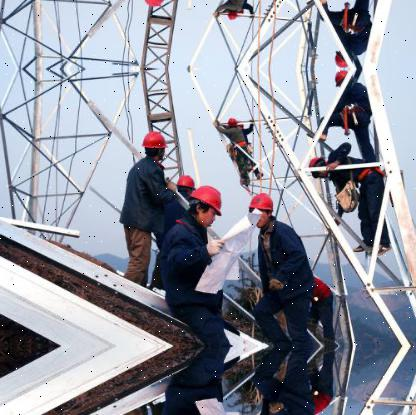helmet: (187, 182, 226, 228), (248, 190, 277, 226), (142, 128, 169, 161), (307, 152, 331, 178), (174, 172, 195, 197), (334, 69, 354, 91), (334, 45, 354, 67), (227, 113, 241, 131), (142, 0, 170, 9), (227, 5, 241, 23)
